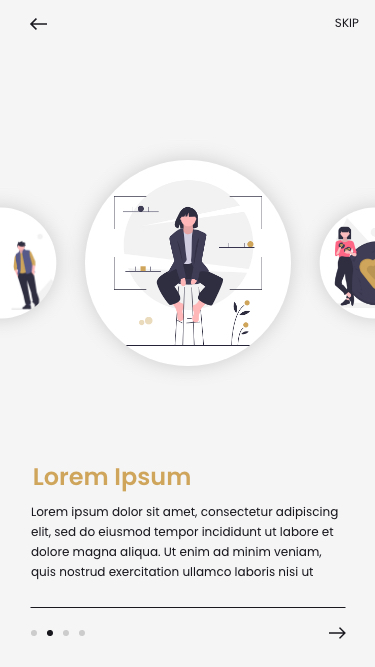Icon: (329, 626, 347, 640), (30, 18, 49, 31)
Image: (85, 161, 292, 367), (319, 208, 375, 320), (1, 208, 57, 320)
PageIndicator: (31, 629, 87, 637)
Text: (31, 506, 339, 580), (34, 467, 192, 493), (334, 18, 360, 29)
